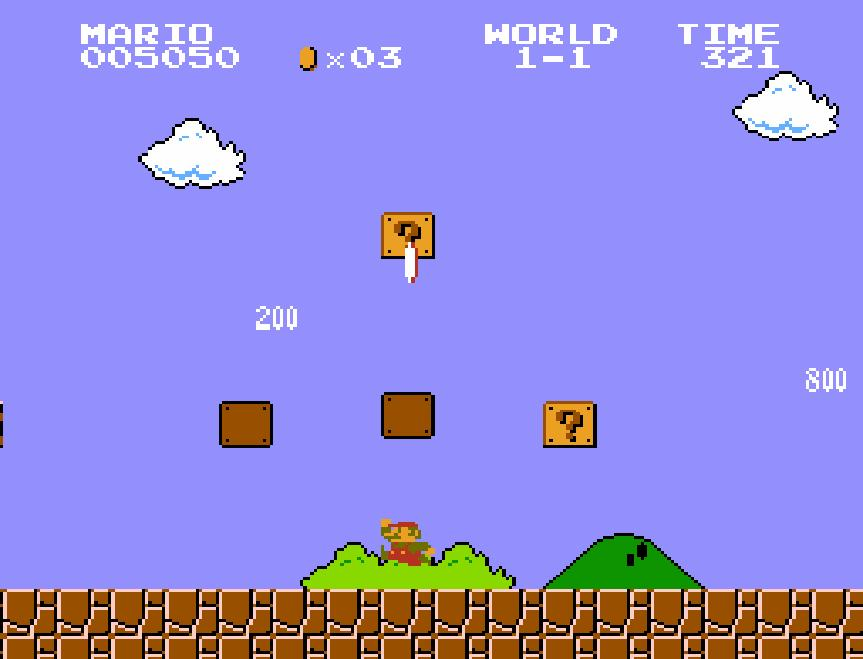little_mario: (379, 518, 437, 568)
